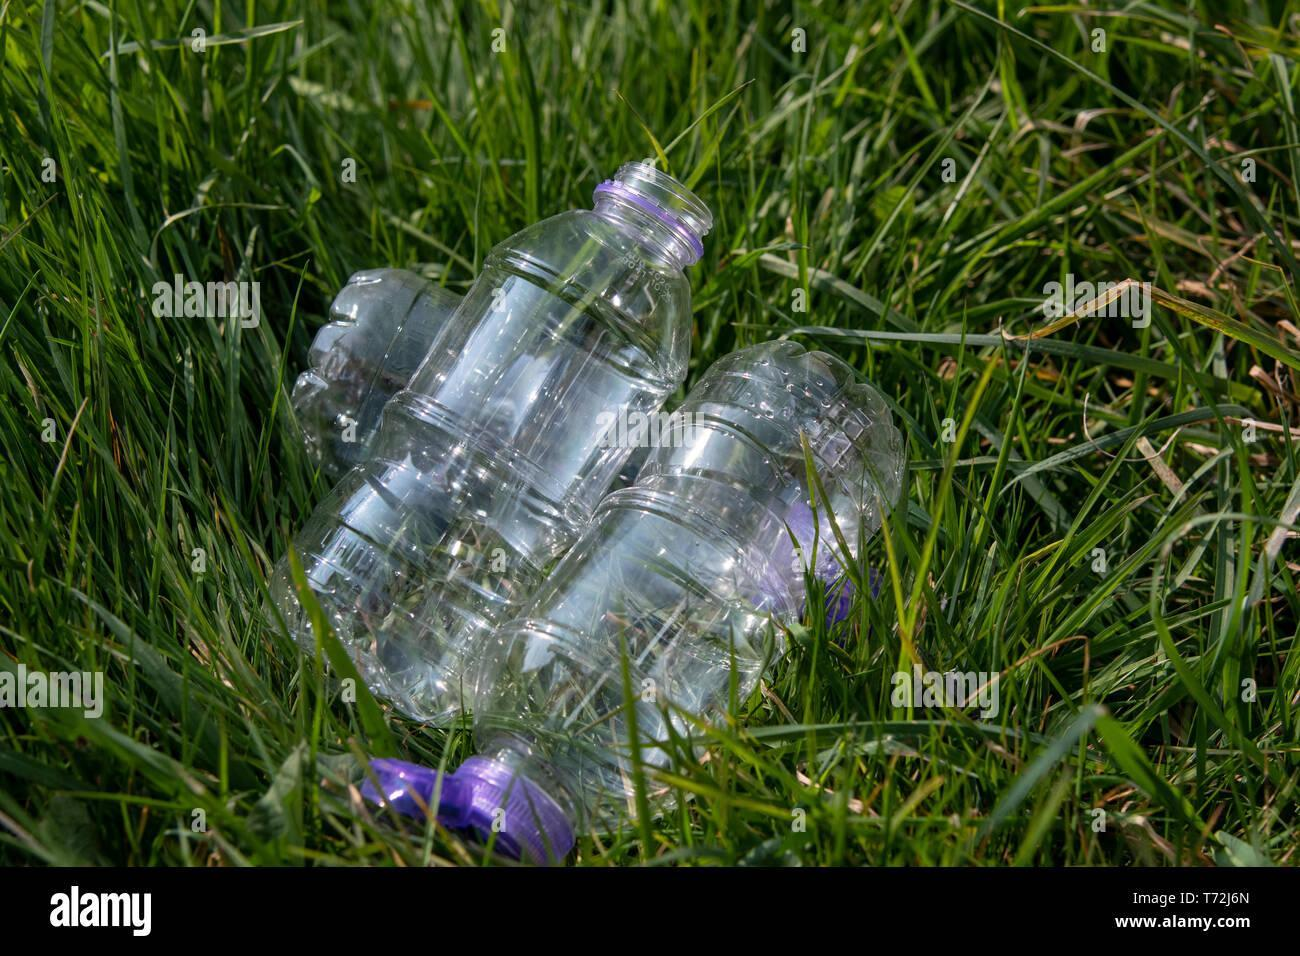bottle: (261, 117, 945, 843)
